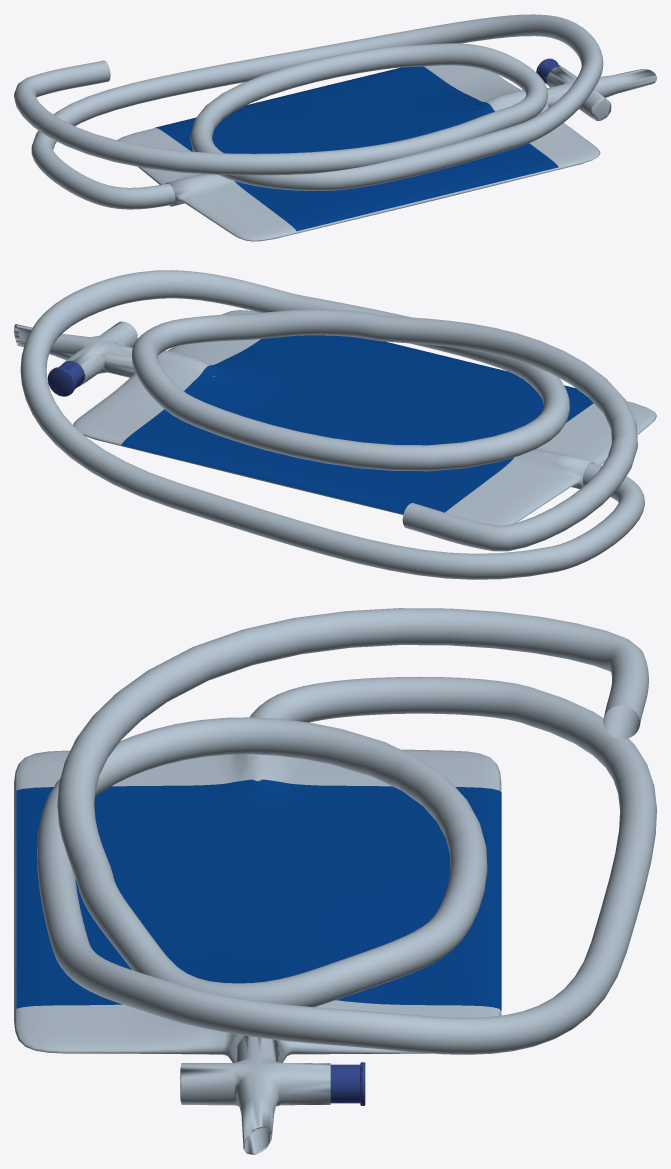
Rendered from 9. Urine Collection Bag.glb.
The picture shows the model from 3 angles, top to bottom: view 1: azimuth 30°, elevation 25°; view 2: azimuth 150°, elevation 25°; view 3: azimuth 270°, elevation 25°; orthographic projection. The views are drawn at different scales.
Visible parts, largest first — view 1: Urine Collection Level.007; view 2: Urine Collection Level.007; view 3: Urine Collection Level.007.
Boxes of the visible parts, bbox=[...] form: Urine Collection Level.007: bbox=[14, 14, 656, 241]; Urine Collection Level.007: bbox=[14, 270, 656, 579]; Urine Collection Level.007: bbox=[14, 608, 656, 1154].
Bounding box in the file's own units: 0.2189 × 0.0263 × 0.1293.
Materials: 1 (1 with a texture image).
